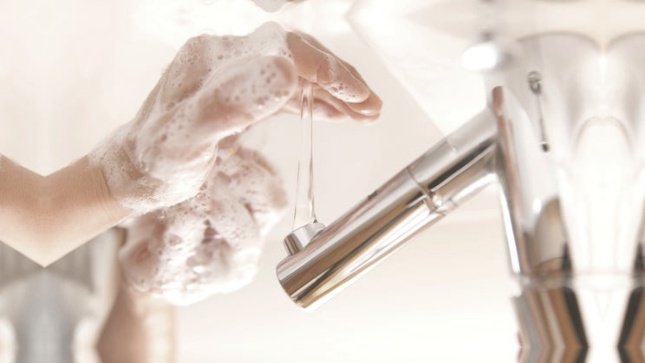washing hand: (97, 24, 523, 332)
